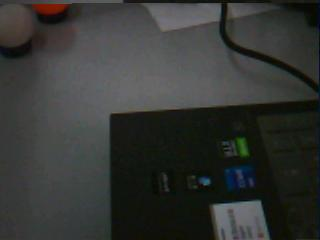oball: (34, 5, 70, 14)
